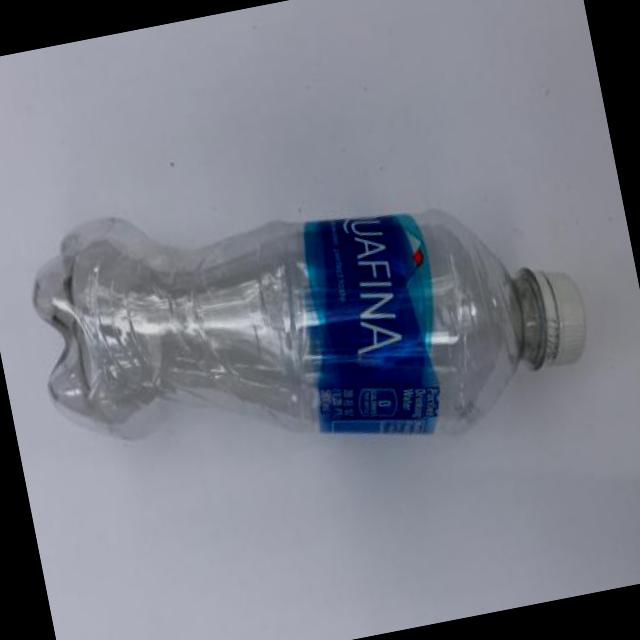Trash: (20, 128, 597, 494)
